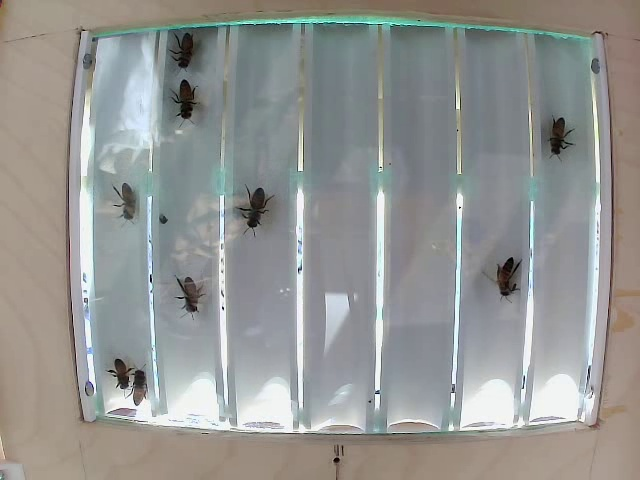bee: (544, 106, 591, 169), (222, 189, 277, 239), (162, 24, 219, 70), (491, 256, 540, 304), (160, 79, 214, 121), (173, 273, 215, 325), (99, 187, 150, 228), (109, 356, 138, 386), (129, 374, 154, 404)
